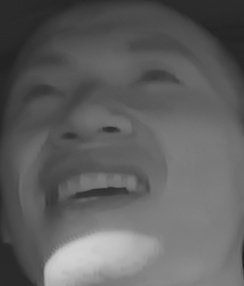eye: (131, 61, 185, 97), (21, 79, 70, 106)
mouth: (40, 152, 156, 221)
